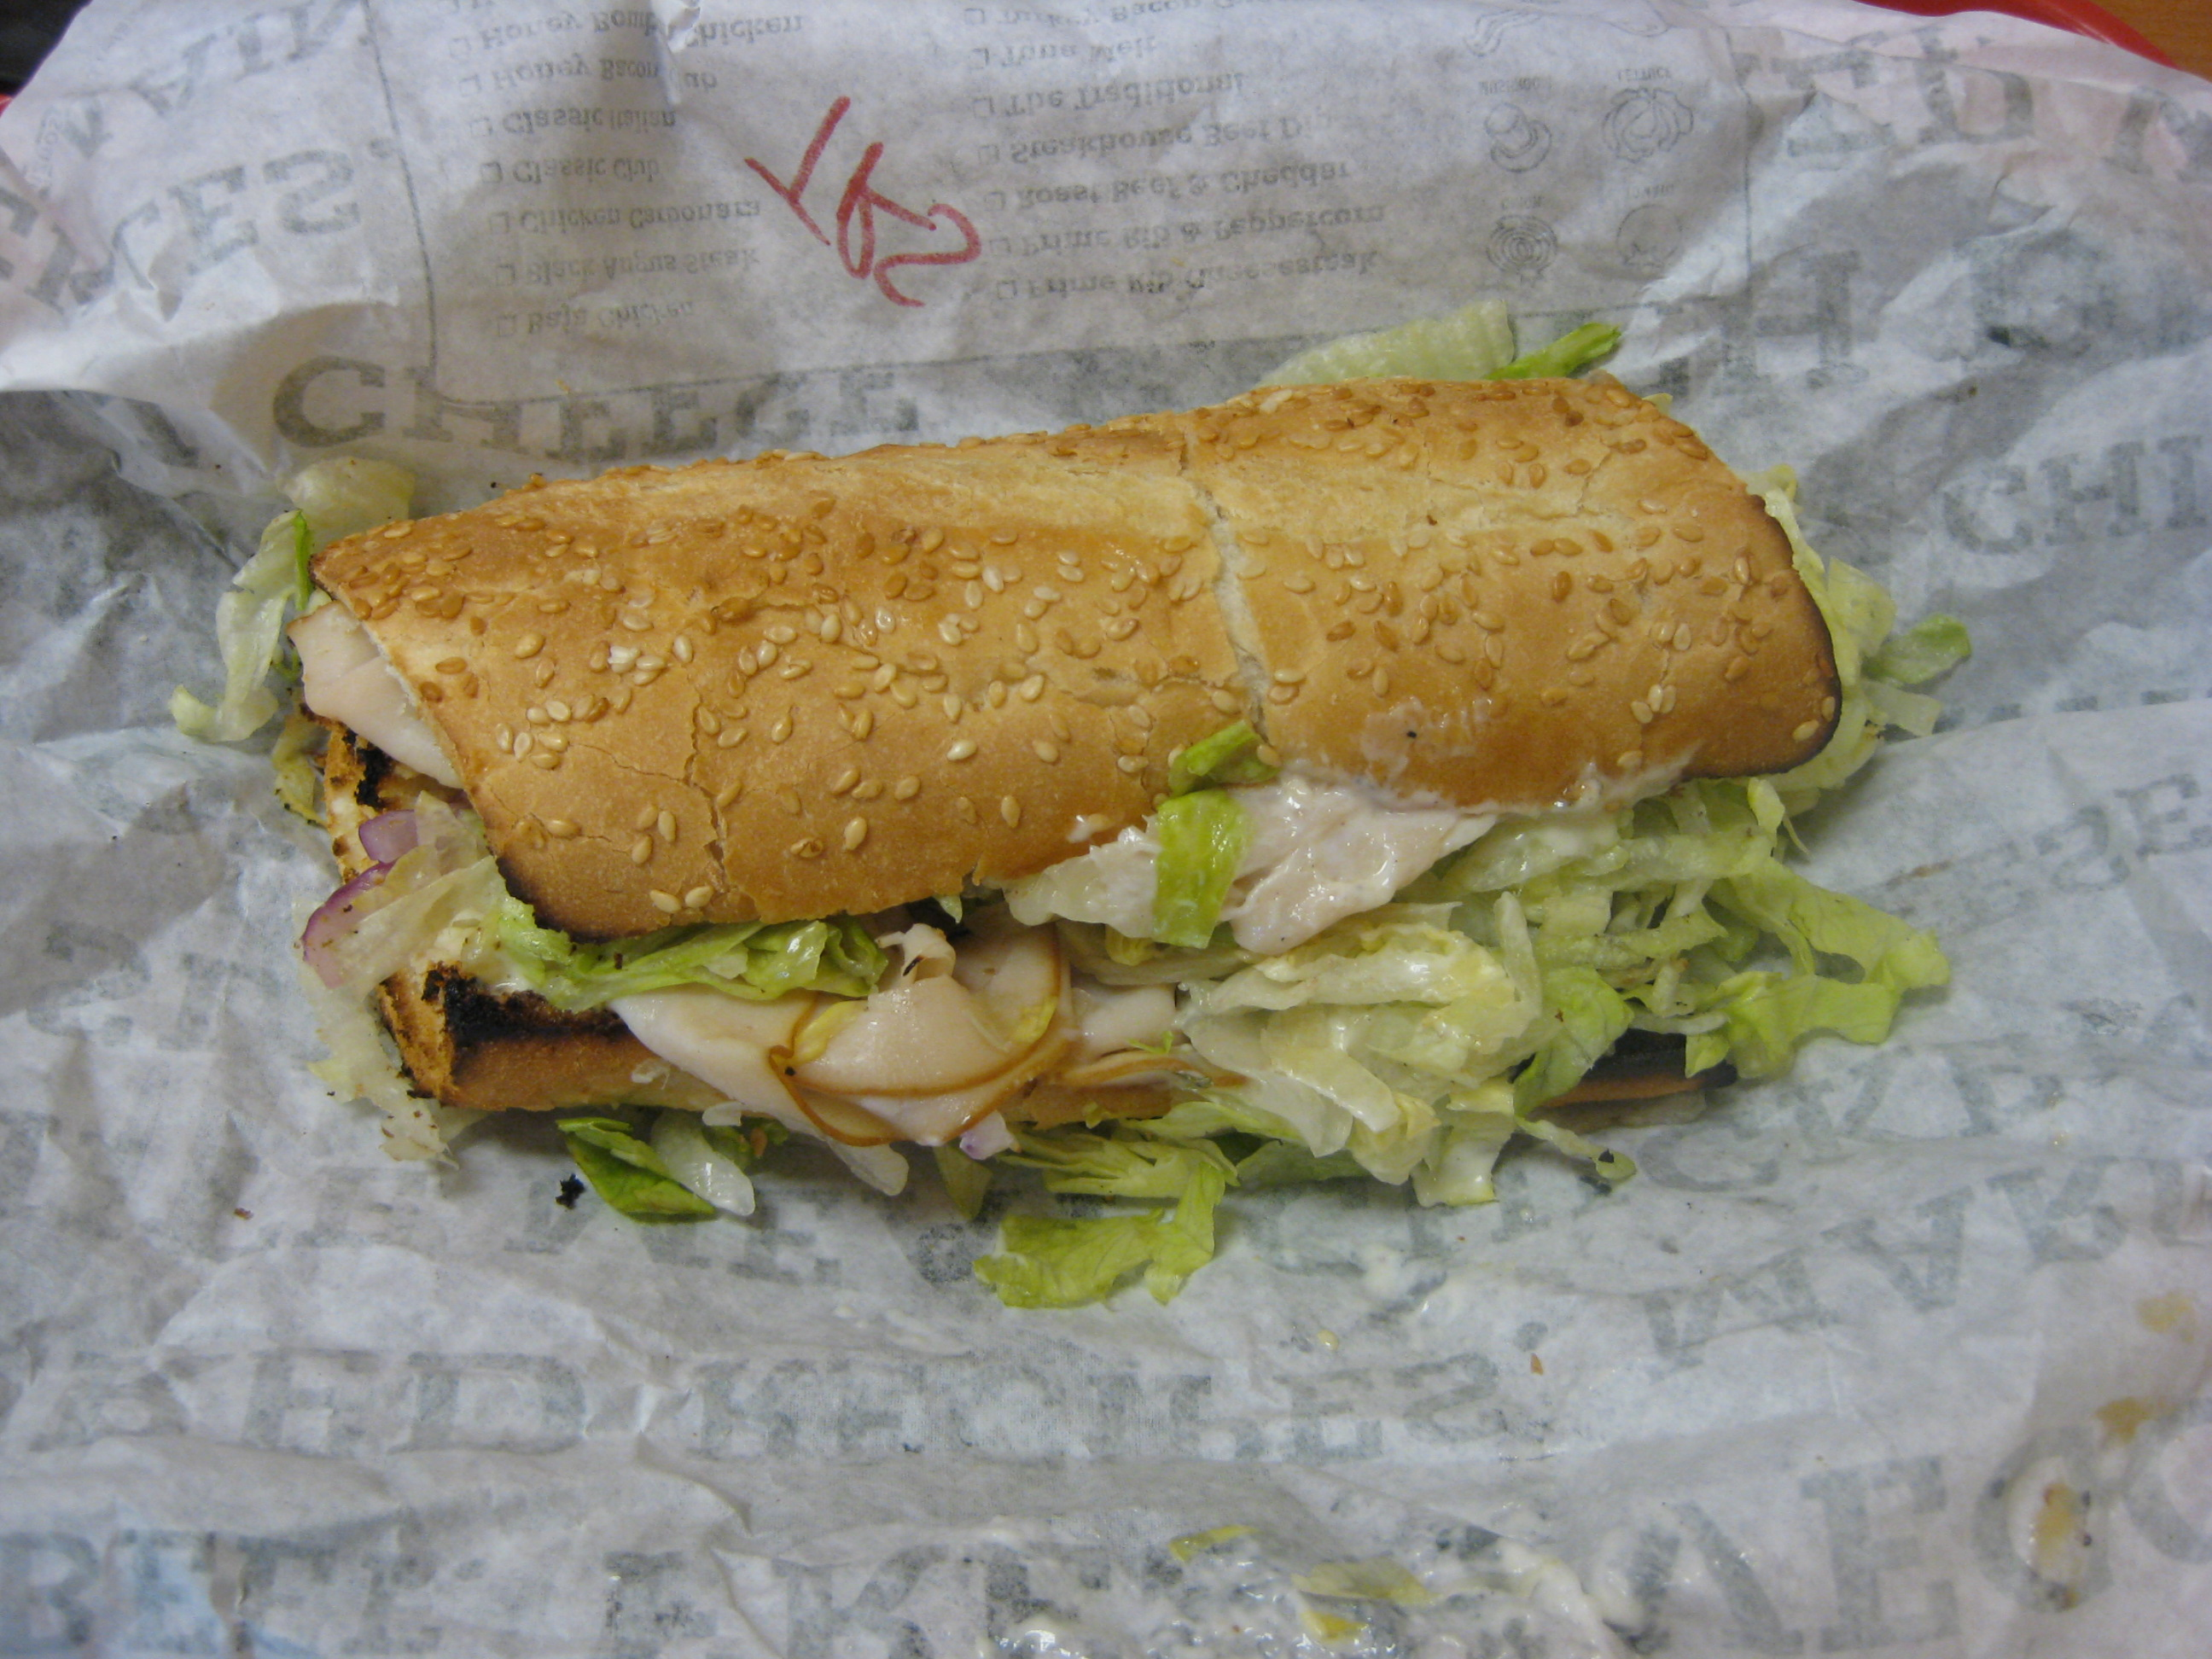sub: (226, 356, 2014, 1214)
